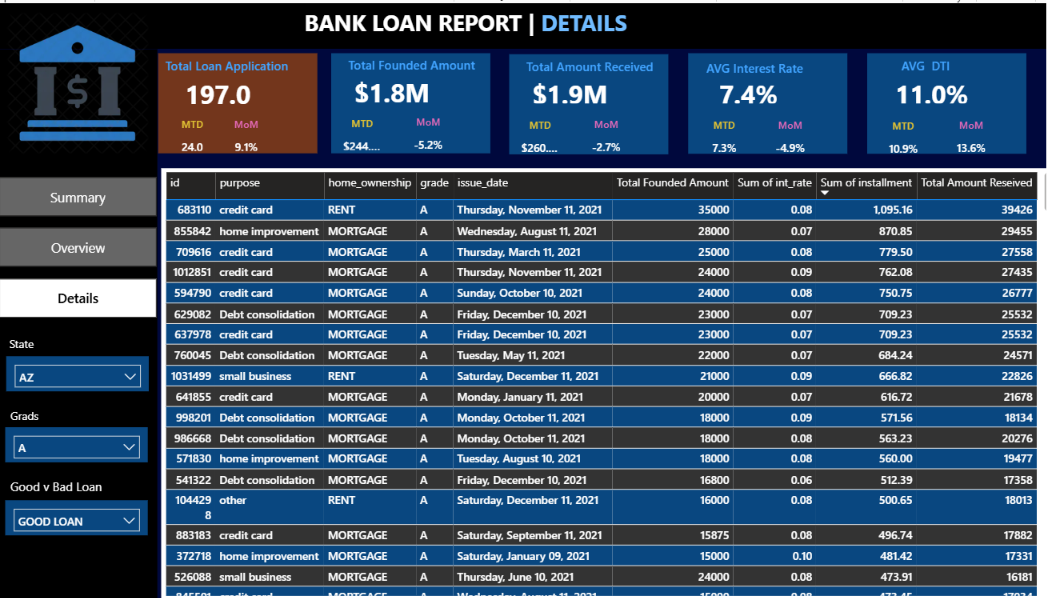

The dashboard page shown, as its layout file describes it:
{"tool":"powerbi","page":{"name":"Details","canvas":[1280,720],"ordinal":2},"visuals":[{"type":"shape","box":[0,0,1279.7,55],"z":0},{"type":"shape","box":[4,56,192,664],"z":1000},{"type":"textbox","box":[367.8,0,436.4,45.3],"z":2000},{"type":"shape","box":[196.4,60.5,192,121],"z":3000},{"type":"cardVisual","fields":{"Data":["financial_loan.Total Loan Application"]},"box":[200,76,168,64],"z":4000},{"type":"textbox","box":[200.3,60.3,184,32],"z":5000},{"type":"cardVisual","title":"MTD","fields":{"Data":["financial_loan.MTD  Loan Application"]},"box":[190.7,137.9,94.7,58.7],"z":6000},{"type":"cardVisual","title":"MoM","fields":{"Data":["financial_loan.MoM loan application"]},"box":[256.3,137.6,94.7,58.7],"z":7000},{"type":"shape","box":[404.8,59.9,192,121],"z":8000},{"type":"cardVisual","fields":{"Data":["financial_loan.Total Founded Amount"]},"box":[404,76,193.3,61.3],"z":9000},{"type":"textbox","box":[420.5,59.5,184,32],"z":10000},{"type":"cardVisual","title":"MTD","fields":{"Data":["financial_loan.MTD  Founded Amount"]},"box":[391.2,136.8,104,58.7],"z":11000},{"type":"cardVisual","title":"MoM","fields":{"Data":["financial_loan.MoM Founded amount"]},"box":[475.2,135.5,94.7,58.7],"z":12000},{"type":"shape","box":[619.6,61.3,192,121],"z":13000},{"type":"cardVisual","fields":{"Data":["financial_loan.Total Amount Reseived"]},"box":[618.7,77.3,193.3,61.3],"z":14000},{"type":"textbox","box":[635.3,60.9,184,32],"z":15000},{"type":"cardVisual","title":"MTD","fields":{"Data":["financial_loan.MTD  Reseived  Amount"]},"box":[606,138.3,104,58.7],"z":16000},{"type":"cardVisual","title":"MoM","fields":{"Data":["financial_loan.MoM Reseived Amount"]},"box":[690,136.9,94.7,58.7],"z":17000},{"type":"shape","box":[836.5,60.3,192,121.3],"z":18000},{"type":"cardVisual","fields":{"Data":["financial_loan.AVG interest rate"]},"box":[844,77.3,184,61.3],"z":19000},{"type":"textbox","box":[853.3,62.7,184,32],"z":20000},{"type":"cardVisual","title":"MTD","fields":{"Data":["financial_loan.MTD  avg interest rate"]},"box":[828,138.7,104,58.7],"z":21000},{"type":"cardVisual","title":"MoM","fields":{"Data":["financial_loan.MoM avg interest rate"]},"box":[912,138.7,94.7,58.7],"z":22000},{"type":"shape","box":[1052,60.8,192,121.3],"z":23000},{"type":"shape","box":[200,209.3,1080,510.7],"z":24000},{"type":"cardVisual","fields":{"Data":["financial_loan.AVG  DTI"]},"box":[1057.3,77.3,180,61.3],"z":25000},{"type":"textbox","box":[1076,60,184,32],"z":26000},{"type":"cardVisual","title":"MTD","fields":{"Data":["financial_loan.MTD  avg dti"]},"box":[1044,140,104,58.7],"z":27000},{"type":"cardVisual","title":"MoM","fields":{"Data":["financial_loan.MoM avg dti"]},"box":[1130.7,138.7,94.7,58.7],"z":28000},{"type":"slicer","fields":{"Values":["financial_loan.address_state"]},"box":[13.3,425.3,172,42.7],"z":29000},{"type":"textbox","box":[12,397.3,65.3,28],"z":30000},{"type":"slicer","fields":{"Values":["financial_loan.grade"]},"box":[12,512,172,42.7],"z":31000},{"type":"textbox","box":[13.3,484,65.3,28],"z":32000},{"type":"slicer","fields":{"Values":["financial_loan.Good v Bad"]},"box":[12,600,172,42.7],"z":33000},{"type":"textbox","box":[13.3,568,149.3,32],"z":34000},{"type":"tableEx","fields":{"Values":["financial_loan.id","financial_loan.purpose","financial_loan.home_ownership","financial_loan.grade","financial_loan.issue_date","financial_loan.Total Founded Amount","Sum(financial_loan.int_rate)","Sum(financial_loan.installment)","financial_loan.Total Amount Reseived"]},"box":[200,198.7,1080,521.3],"z":37001},{"type":"pageNavigator","box":[5.3,209.3,190.7,169.3],"z":37002},{"type":"image","box":[13.3,0,172,192],"z":37003}]}

Visuals, with their boxes in screenshot pixels (x1, y1, x2, y2), scaled from the page's 1280x720 canvas onto the 1047x598 screenshot:
shape: pyautogui.locateOnScreen(0, 0, 1046, 46)
shape: pyautogui.locateOnScreen(3, 47, 160, 597)
textbox: pyautogui.locateOnScreen(301, 0, 658, 38)
shape: pyautogui.locateOnScreen(161, 50, 318, 151)
cardVisual - financial_loan.Total Loan Application: pyautogui.locateOnScreen(164, 63, 301, 116)
textbox: pyautogui.locateOnScreen(164, 50, 314, 77)
"MTD" cardVisual: pyautogui.locateOnScreen(156, 115, 233, 163)
"MoM" cardVisual: pyautogui.locateOnScreen(210, 114, 287, 163)
shape: pyautogui.locateOnScreen(331, 50, 488, 150)
cardVisual - financial_loan.Total Founded Amount: pyautogui.locateOnScreen(330, 63, 489, 114)
textbox: pyautogui.locateOnScreen(344, 49, 494, 76)
"MTD" cardVisual: pyautogui.locateOnScreen(320, 114, 405, 162)
"MoM" cardVisual: pyautogui.locateOnScreen(389, 113, 466, 161)
shape: pyautogui.locateOnScreen(507, 51, 664, 151)
cardVisual - financial_loan.Total Amount Reseived: pyautogui.locateOnScreen(506, 64, 664, 115)
textbox: pyautogui.locateOnScreen(520, 51, 670, 77)
"MTD" cardVisual: pyautogui.locateOnScreen(496, 115, 581, 164)
"MoM" cardVisual: pyautogui.locateOnScreen(564, 114, 642, 162)
shape: pyautogui.locateOnScreen(684, 50, 841, 151)
cardVisual - financial_loan.AVG interest rate: pyautogui.locateOnScreen(690, 64, 841, 115)
textbox: pyautogui.locateOnScreen(698, 52, 848, 79)
"MTD" cardVisual: pyautogui.locateOnScreen(677, 115, 762, 164)
"MoM" cardVisual: pyautogui.locateOnScreen(746, 115, 823, 164)
shape: pyautogui.locateOnScreen(861, 50, 1018, 151)
shape: pyautogui.locateOnScreen(164, 174, 1046, 597)
cardVisual - financial_loan.AVG  DTI: pyautogui.locateOnScreen(865, 64, 1012, 115)
textbox: pyautogui.locateOnScreen(880, 50, 1031, 76)
"MTD" cardVisual: pyautogui.locateOnScreen(854, 116, 939, 165)
"MoM" cardVisual: pyautogui.locateOnScreen(925, 115, 1002, 164)
slicer - financial_loan.address_state: pyautogui.locateOnScreen(11, 353, 152, 389)
textbox: pyautogui.locateOnScreen(10, 330, 63, 353)
slicer - financial_loan.grade: pyautogui.locateOnScreen(10, 425, 151, 461)
textbox: pyautogui.locateOnScreen(11, 402, 64, 425)
slicer - financial_loan.Good v Bad: pyautogui.locateOnScreen(10, 498, 151, 534)
textbox: pyautogui.locateOnScreen(11, 472, 133, 498)
tableEx - financial_loan.id x financial_loan.purpose: pyautogui.locateOnScreen(164, 165, 1046, 597)
pageNavigator: pyautogui.locateOnScreen(4, 174, 160, 314)
image: pyautogui.locateOnScreen(11, 0, 152, 159)
